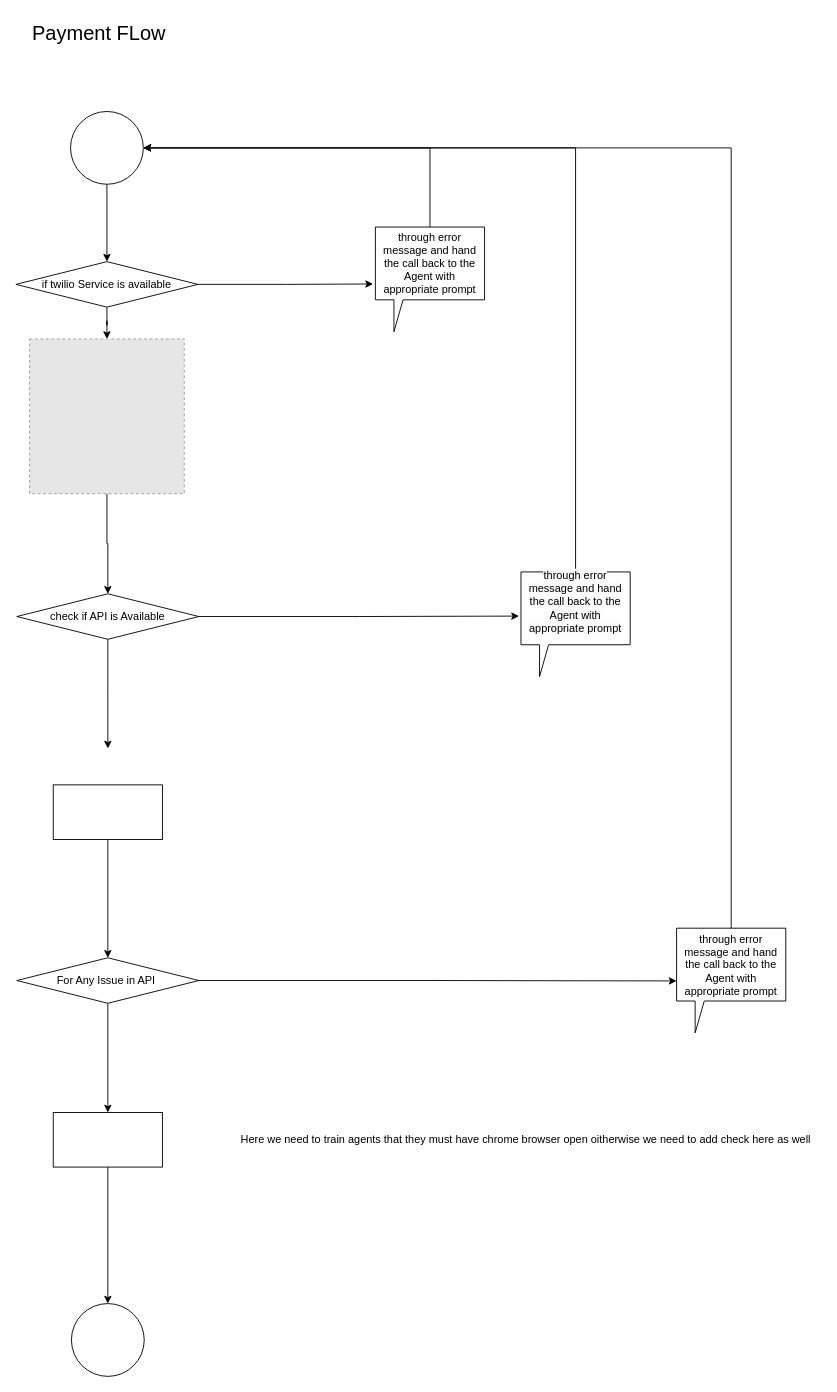
This 837x1392 diagram has some shape labels left out. Grey dashed boxes stand in for pictures. The centre of each missing label's shape, as x and y in pixels:
API will Fetch the Data: point 107,811
Find the Agent Chrome browser and populate the fields: point 107,1139
